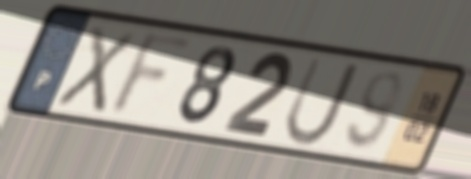2: (219, 49, 296, 142)
8: (177, 44, 238, 127)
9: (342, 68, 407, 154)
F: (102, 28, 202, 121)
U: (279, 52, 364, 149)
X: (50, 21, 141, 117)
